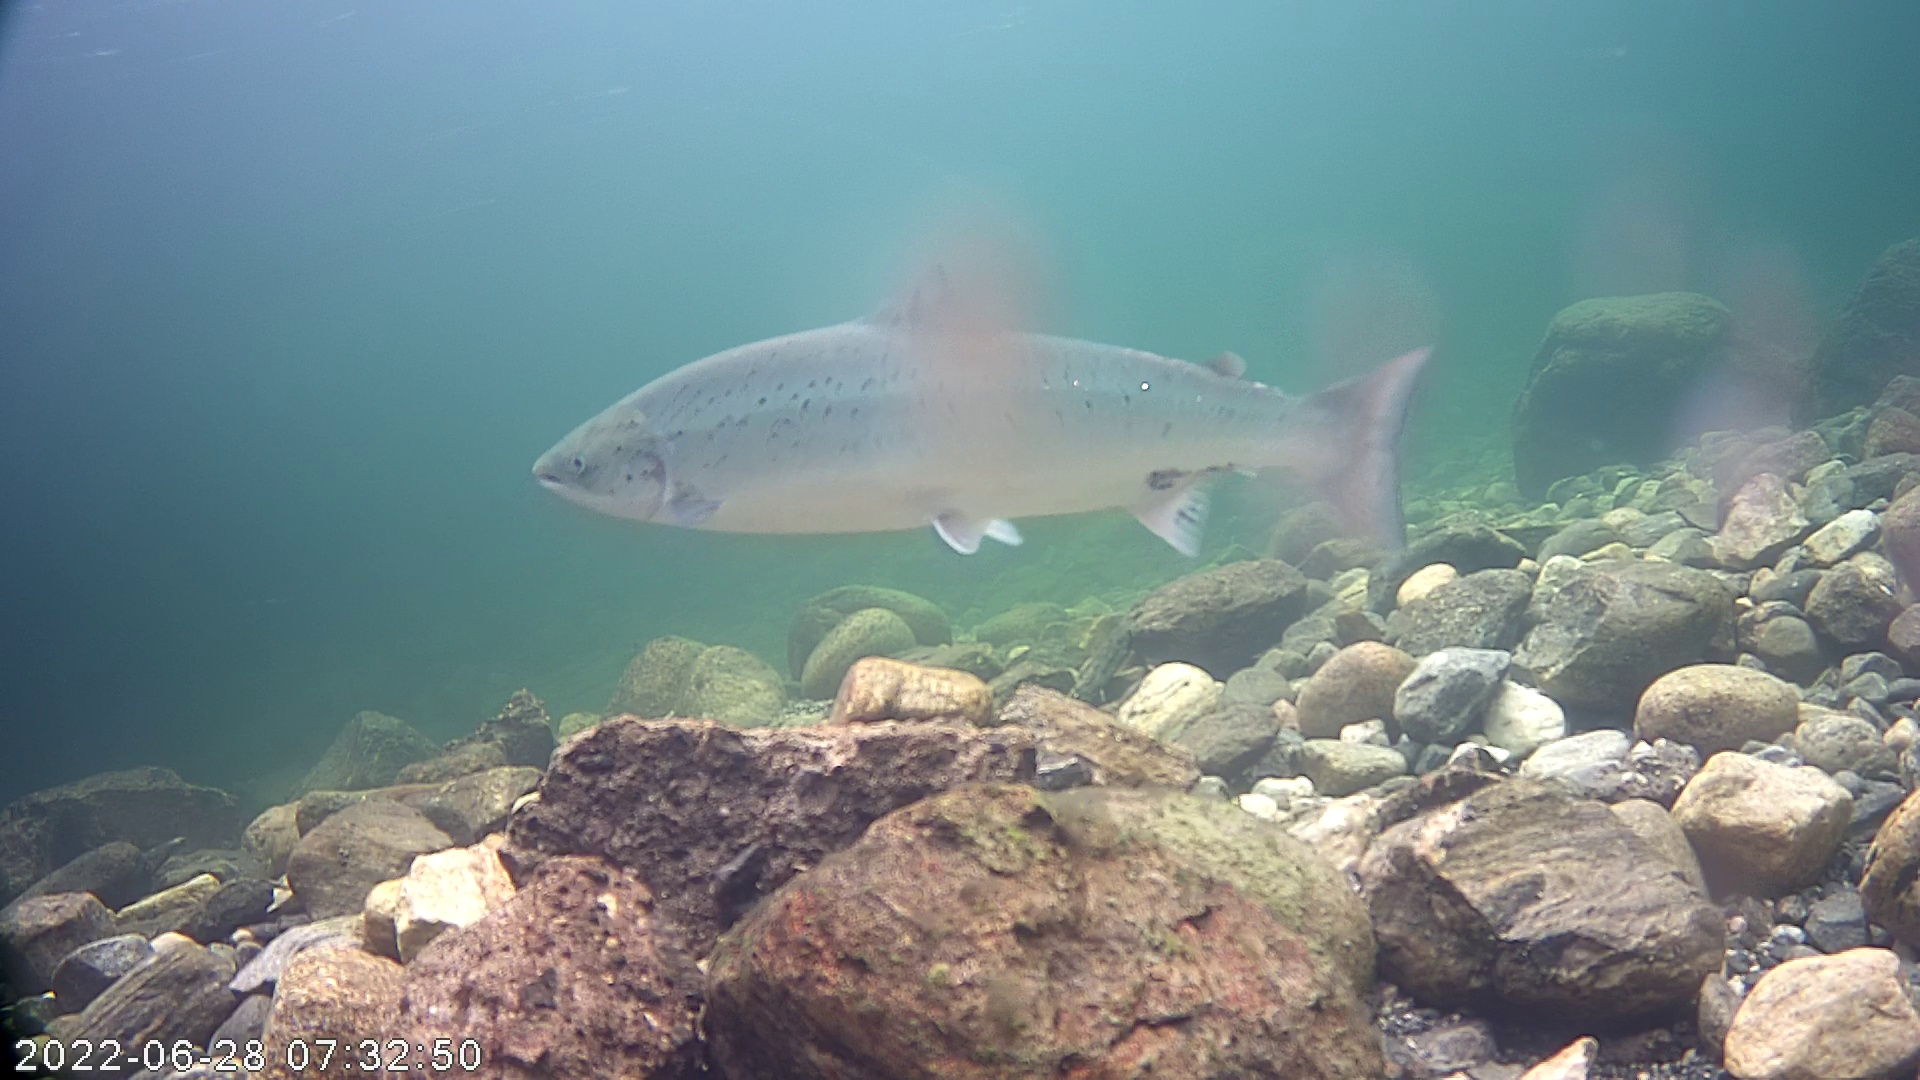salmon: (520, 179, 1458, 624)
